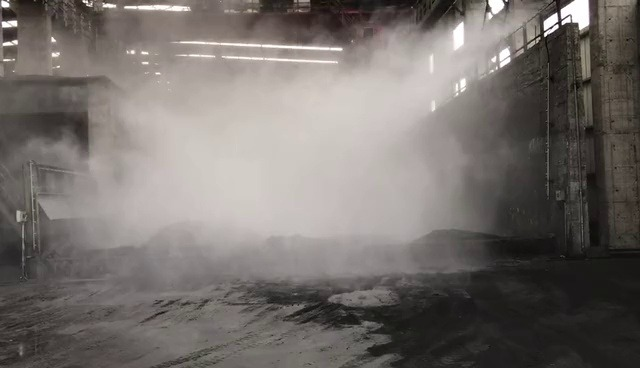dust: (54, 8, 502, 272)
